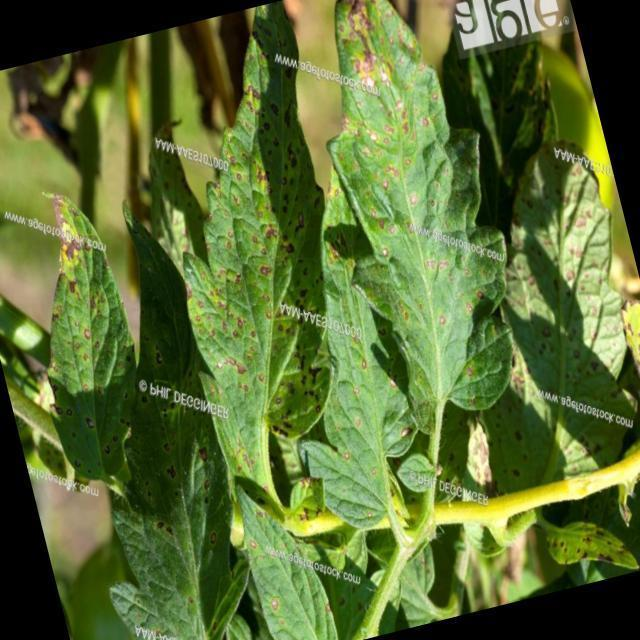Septoria: (138, 36, 368, 473), (312, 0, 524, 427), (470, 125, 640, 441), (0, 176, 159, 485), (98, 317, 245, 576)
